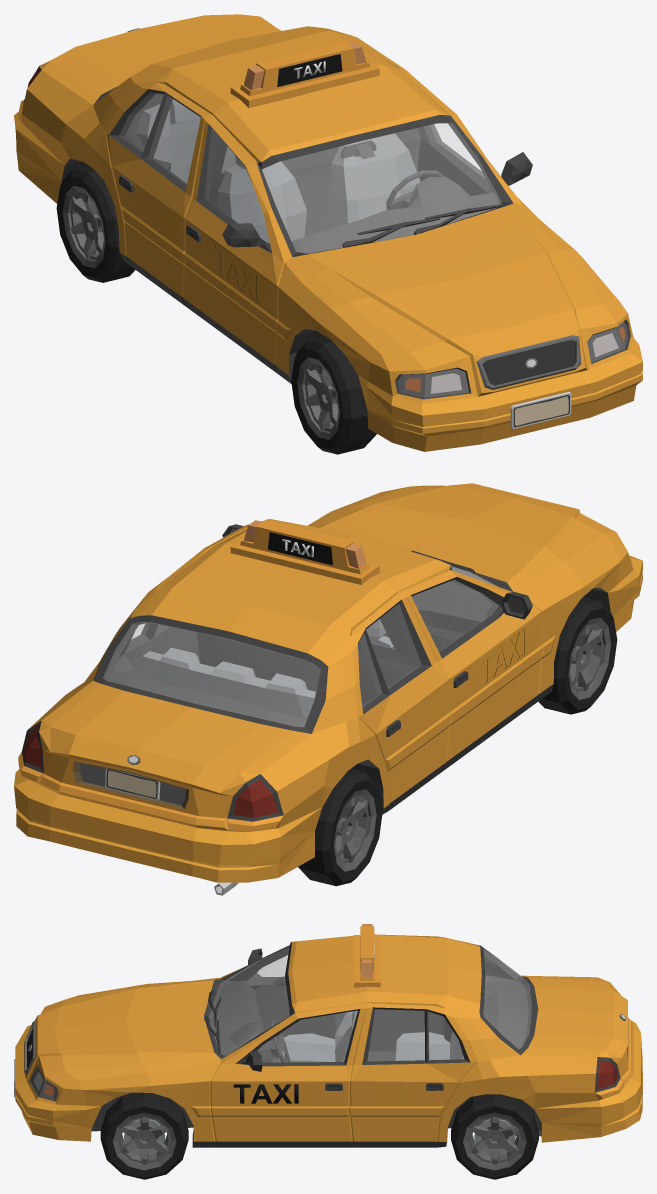
The model's file is sedan-taxi.glb.
3 views of the same model, one above another, from view 1: azimuth 30°, elevation 25°; view 2: azimuth 150°, elevation 25°; view 3: azimuth 270°, elevation 25° (orthographic). The views are drawn at different scales.
Parts seen in each view (by area): view 1: sedan-taxi; view 2: sedan-taxi; view 3: sedan-taxi.
Boxes of the visible parts, x1,y1,x2,y2 form: sedan-taxi: (14,14,642,454); sedan-taxi: (14,483,642,895); sedan-taxi: (14,924,642,1179).
Bounding box in the file's own units: 2.17 × 1.72 × 5.18.
Materials: 2 (1 with a texture image).
